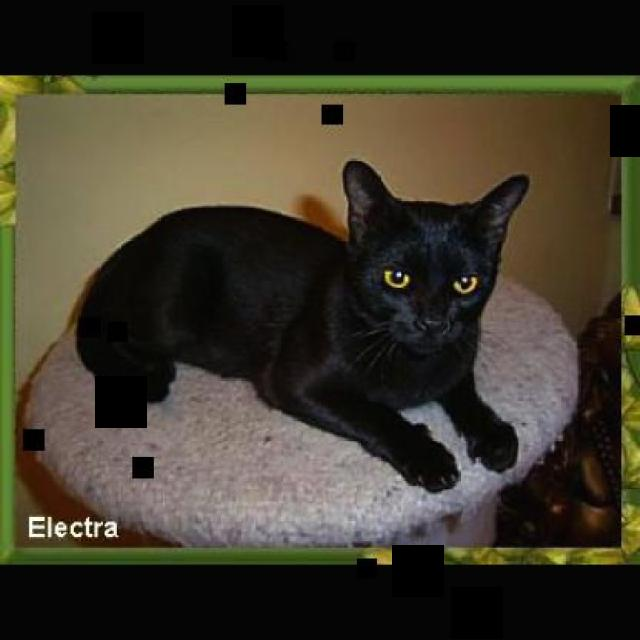unauthorized: (69, 157, 531, 494)
